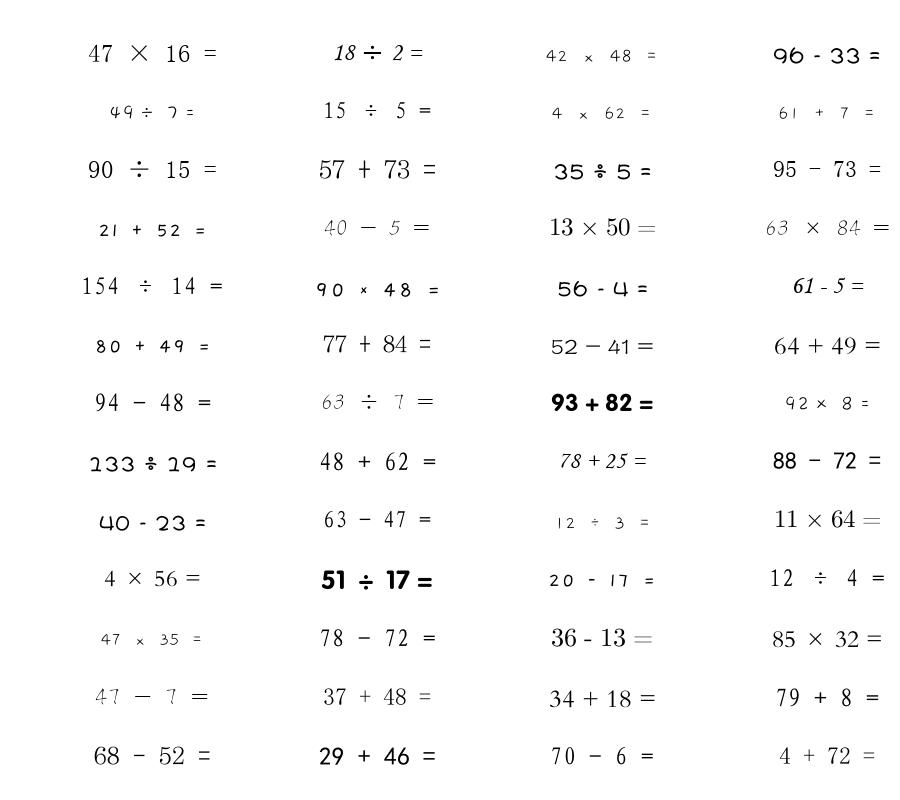MQ: (81, 277, 223, 295), (88, 44, 217, 62), (88, 160, 217, 178), (321, 570, 433, 590), (319, 160, 436, 179), (94, 393, 211, 412), (319, 452, 436, 471), (94, 746, 211, 765), (319, 629, 436, 647), (319, 747, 436, 765), (769, 569, 885, 587), (88, 456, 217, 472), (765, 220, 890, 236), (775, 688, 879, 707), (323, 101, 431, 119), (323, 335, 431, 353), (323, 510, 431, 528), (551, 393, 653, 412), (551, 628, 653, 647), (95, 688, 209, 705), (549, 218, 656, 236), (774, 337, 881, 355), (774, 510, 881, 528), (549, 690, 656, 708), (314, 282, 441, 297), (772, 631, 883, 648), (550, 747, 654, 765), (773, 47, 881, 64), (773, 452, 881, 469), (323, 688, 431, 705), (321, 394, 434, 410), (773, 161, 881, 177), (99, 515, 206, 531), (324, 220, 430, 236), (104, 570, 201, 587), (551, 339, 654, 355), (779, 747, 875, 764), (553, 164, 652, 180), (546, 49, 658, 63), (332, 44, 423, 61), (557, 280, 648, 297), (94, 340, 211, 353), (98, 224, 207, 237), (558, 453, 646, 469), (548, 574, 656, 587), (552, 106, 652, 120), (778, 106, 876, 120), (101, 633, 203, 646), (109, 105, 195, 120), (784, 396, 870, 411), (554, 517, 651, 530), (791, 277, 864, 294)
